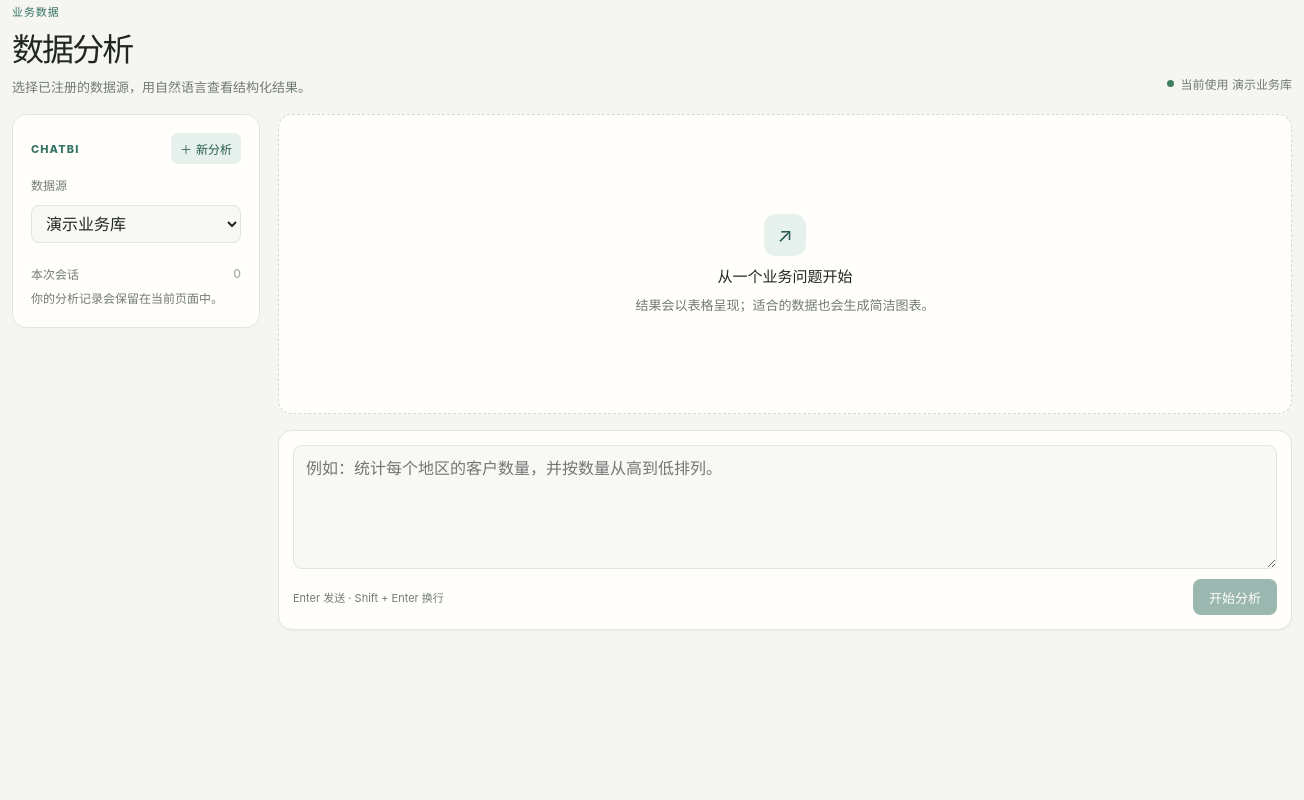
Test: AnalysisView › renders a clarification without creating a result table
Expected: the dropdown labelled "数据源" shows "演示业务库", [31,205,241,243]
Type "帮我看看" into the text box with placeholder "例如：统计每个地区的客户数量，并按数量从高到低排列。" at (785, 507), box [293,445,1277,569]
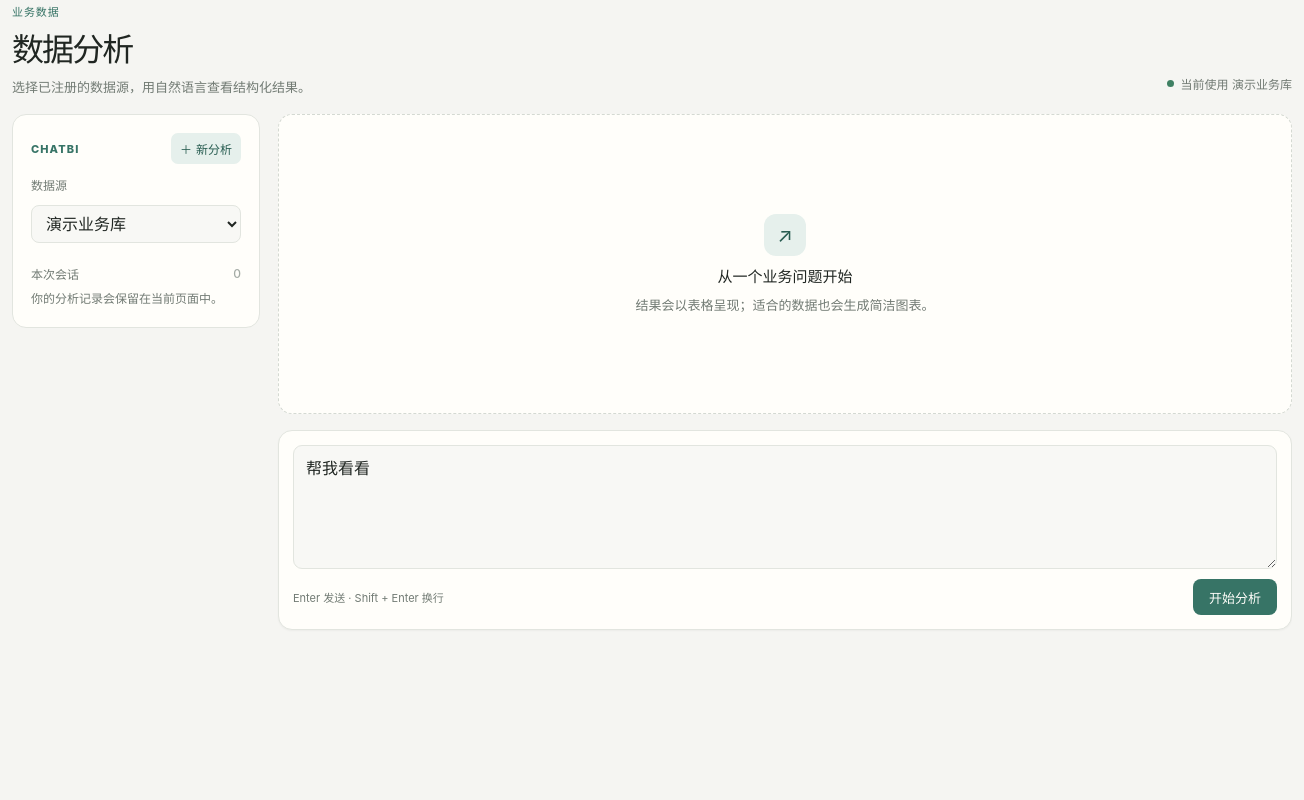
Press Enter in the text box named "分析问题", box [293,445,1277,569]
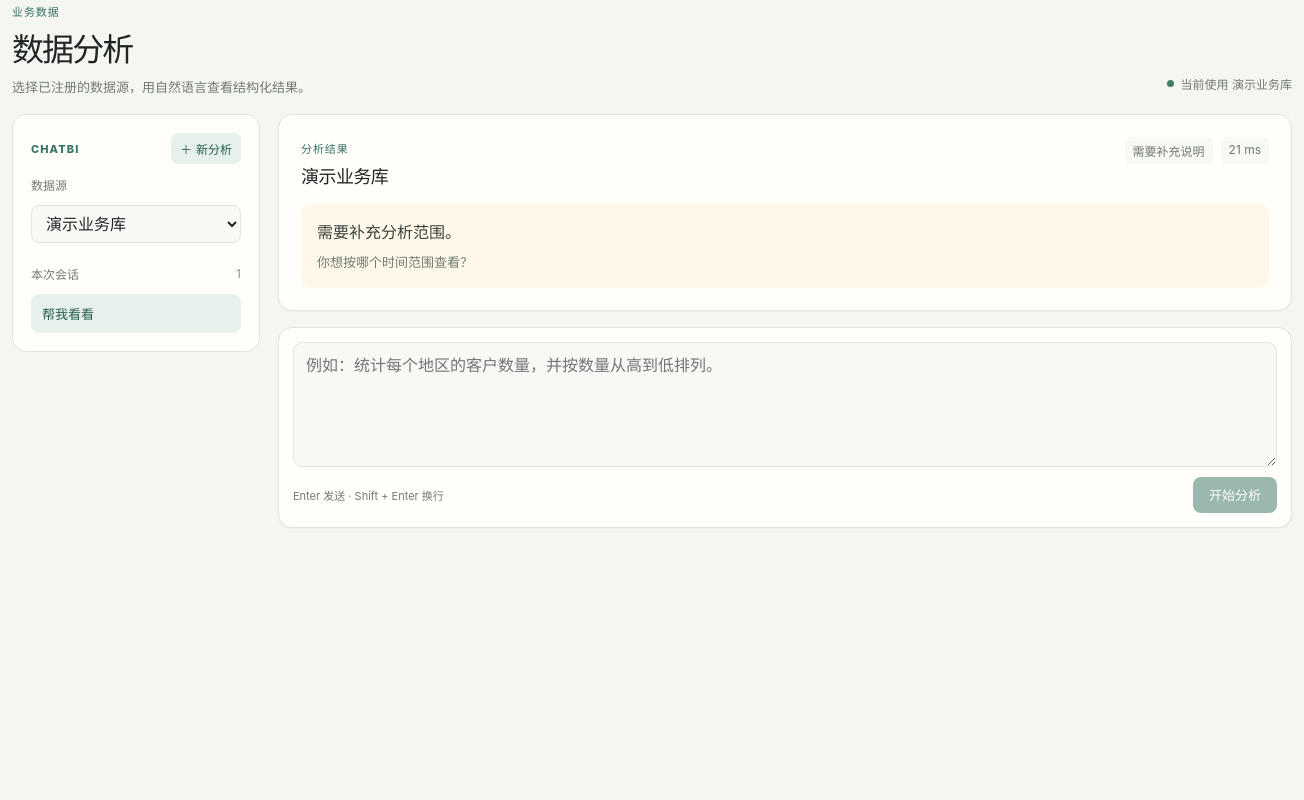
Result: the text "需要补充分析范围" is shown at [317,222,461,242]
Result: the text "你想按哪个时间范围查看？" is shown at [317,254,473,270]
